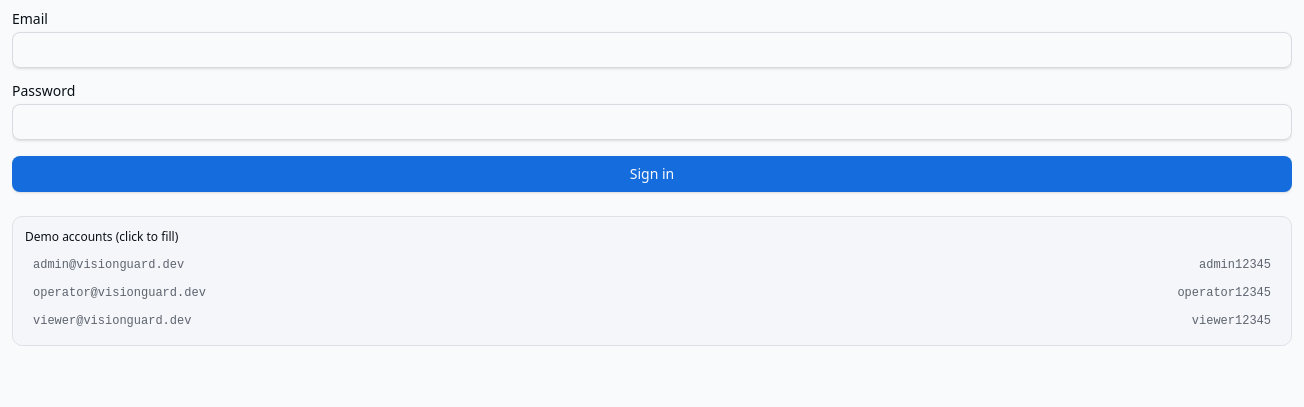
Test: LoginForm › shows validation errors and does not submit invalid input
Click the button "Sign in" at coordinates (652, 174), box [12,156,1292,192]
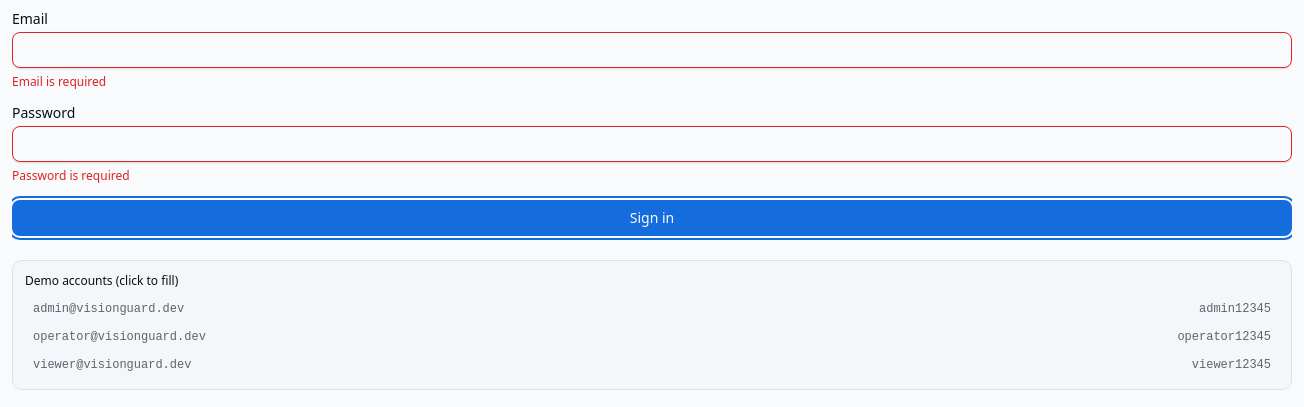
Check: the text "Email is required" is shown, box [12,73,106,90]
Check: the text "Password is required" is shown, box [12,167,130,184]
Type "not-an-email" into the field labelled "Email" at coordinates (652, 50), box [12,32,1292,68]
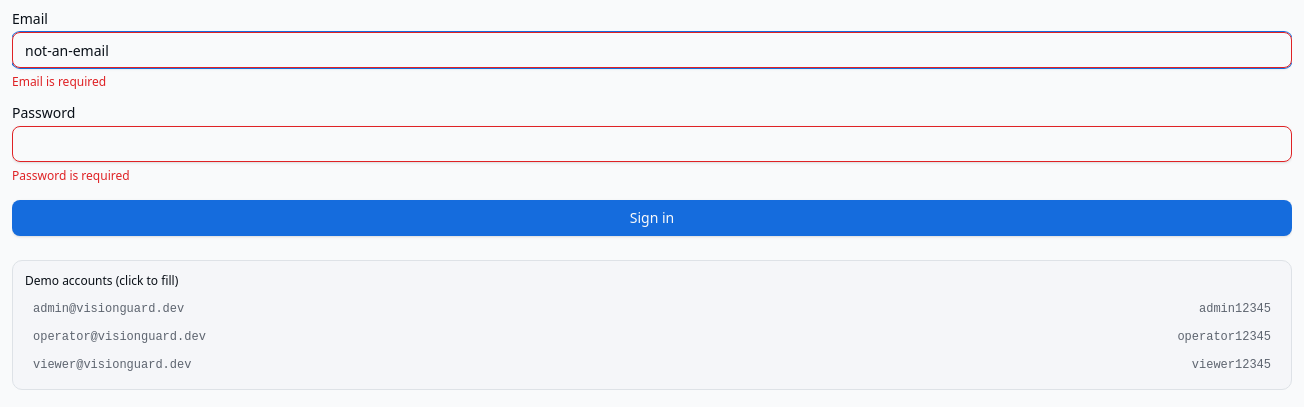
Click the button "Sign in" at coordinates (652, 218), box [12,200,1292,236]
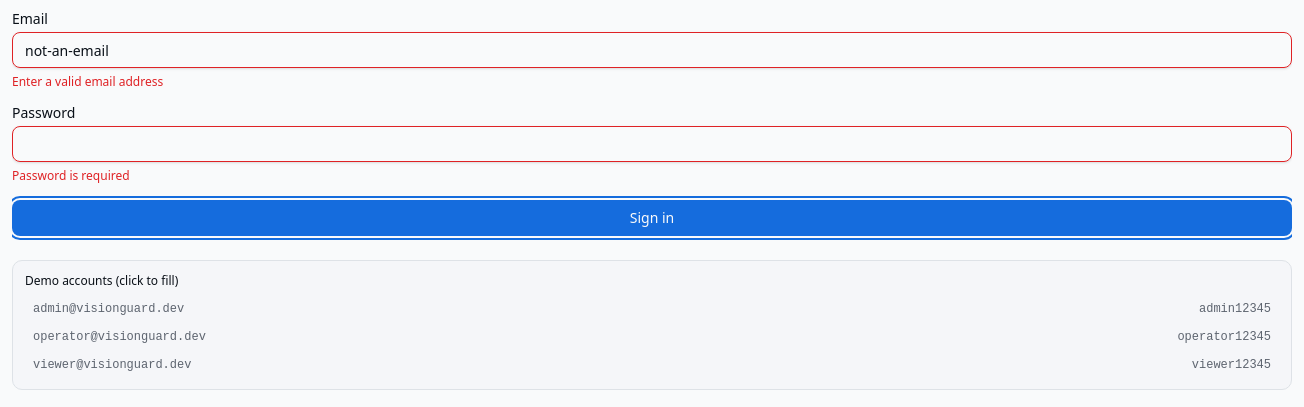
Check: the text "Enter a valid email address" is shown, box [12,73,163,90]
